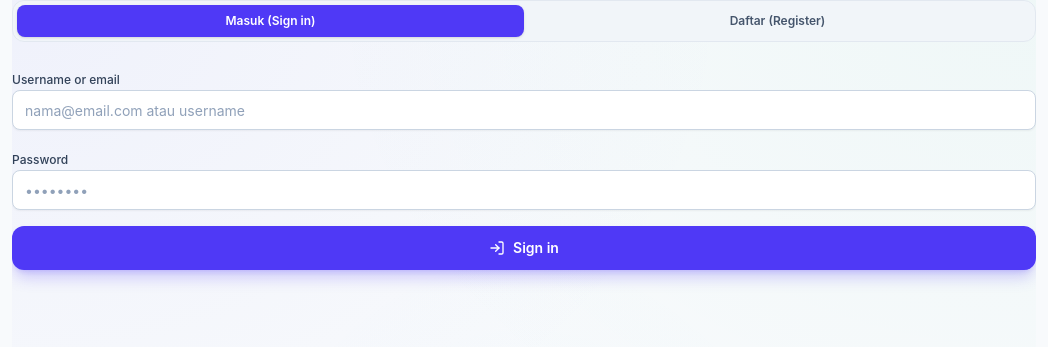
Test: LoginForm › shows validation errors for empty credentials
The width and height of the screenshot is (1048, 347).
Click the button "Sign in".
click(524, 248)  # box [12,226,1036,270]
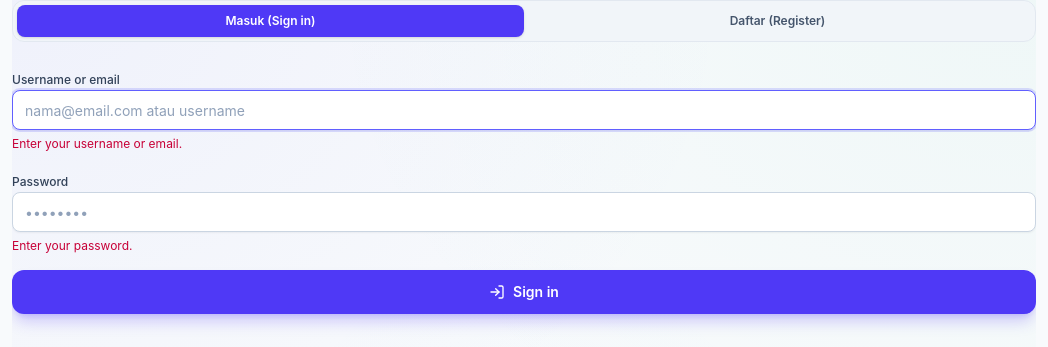
Check: the text "Enter your username or email." is shown, box [12,136,182,151]
Check: the text "Enter your password." is shown, box [12,238,132,253]
